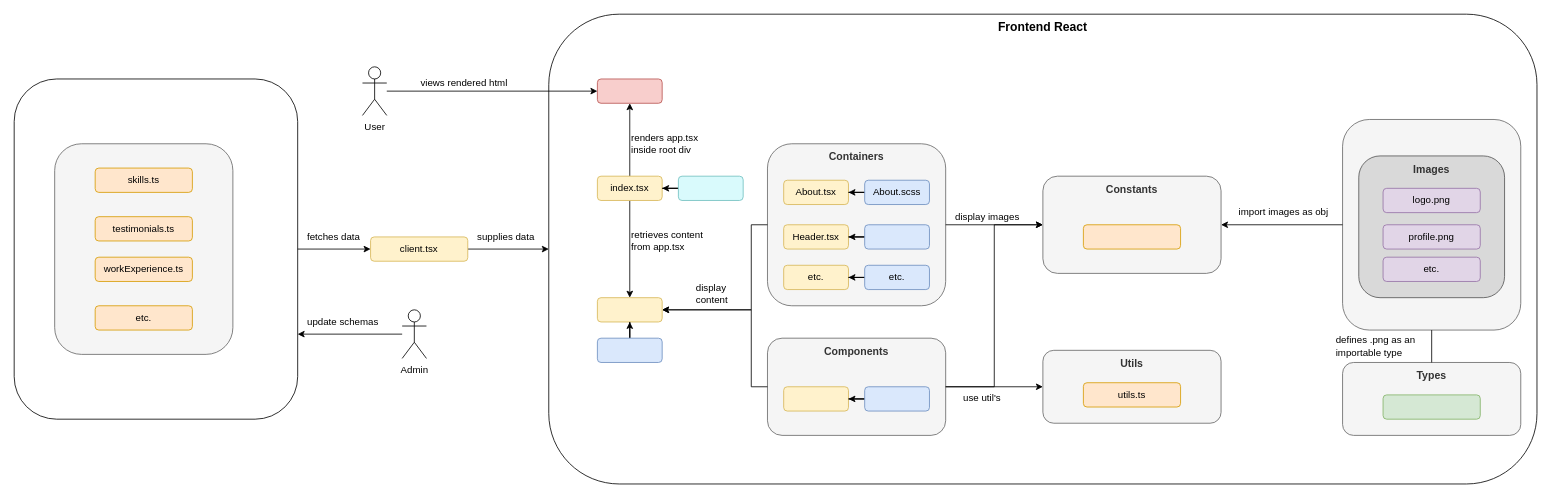
Some shapes in this 1551 by 498 pixel diagram are drawn without their labels. The shapes that lost their labels are listed below. From the top down, each one's box as (x1, y1, x2, y2) in pixels, then its label:
(597, 78, 662, 103): index.html
(678, 175, 743, 200): index.css
(864, 224, 929, 249): Header.scss
(1083, 224, 1181, 249): images.ts
(1342, 119, 1521, 330): Assets
(54, 143, 233, 354): Schemas
(13, 78, 298, 419): Backend Sanity (CMS)
(597, 297, 662, 322): app.tsx
(597, 337, 662, 362): app.scss
(783, 386, 848, 411): Navbar.tsx
(864, 386, 929, 411): Navbar.scss
(1382, 394, 1480, 419): images.d.ts
